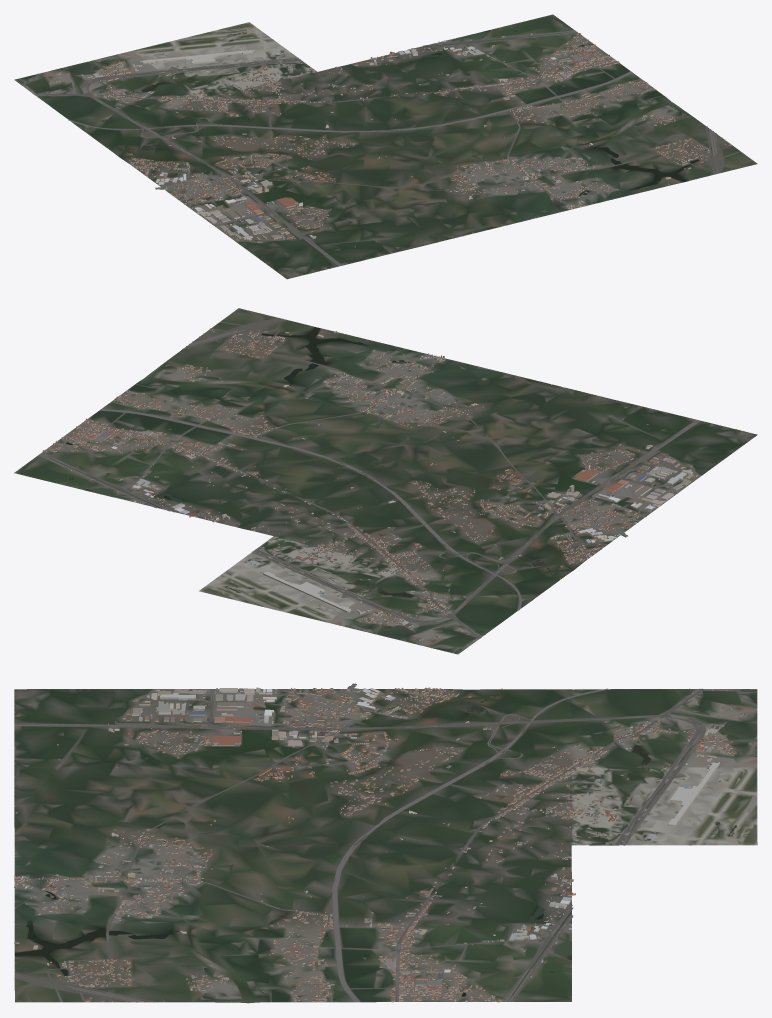
The picture shows the model from 3 angles, top to bottom: view 1: azimuth 30°, elevation 25°; view 2: azimuth 150°, elevation 25°; view 3: azimuth 270°, elevation 25°; orthographic projection. The views are drawn at different scales.
Parts seen in each view (by area): view 1: ground, buildings, roads, water; view 2: ground, buildings, roads, water; view 3: ground, buildings, roads, water.
Part boxes in pixels (bbox=[...]): ground: bbox=[14, 14, 757, 279]; buildings: bbox=[27, 32, 731, 269]; roads: bbox=[15, 30, 740, 266]; water: bbox=[116, 30, 699, 199]; ground: bbox=[14, 308, 757, 654]; buildings: bbox=[42, 328, 725, 645]; roads: bbox=[38, 317, 700, 653]; water: bbox=[66, 327, 621, 606]; ground: bbox=[14, 689, 757, 1003]; buildings: bbox=[14, 683, 747, 1002]; roads: bbox=[14, 688, 757, 1002]; water: bbox=[15, 691, 736, 996].
Bounding box in the file's own units: 5681 × 74.56 × 5615.
